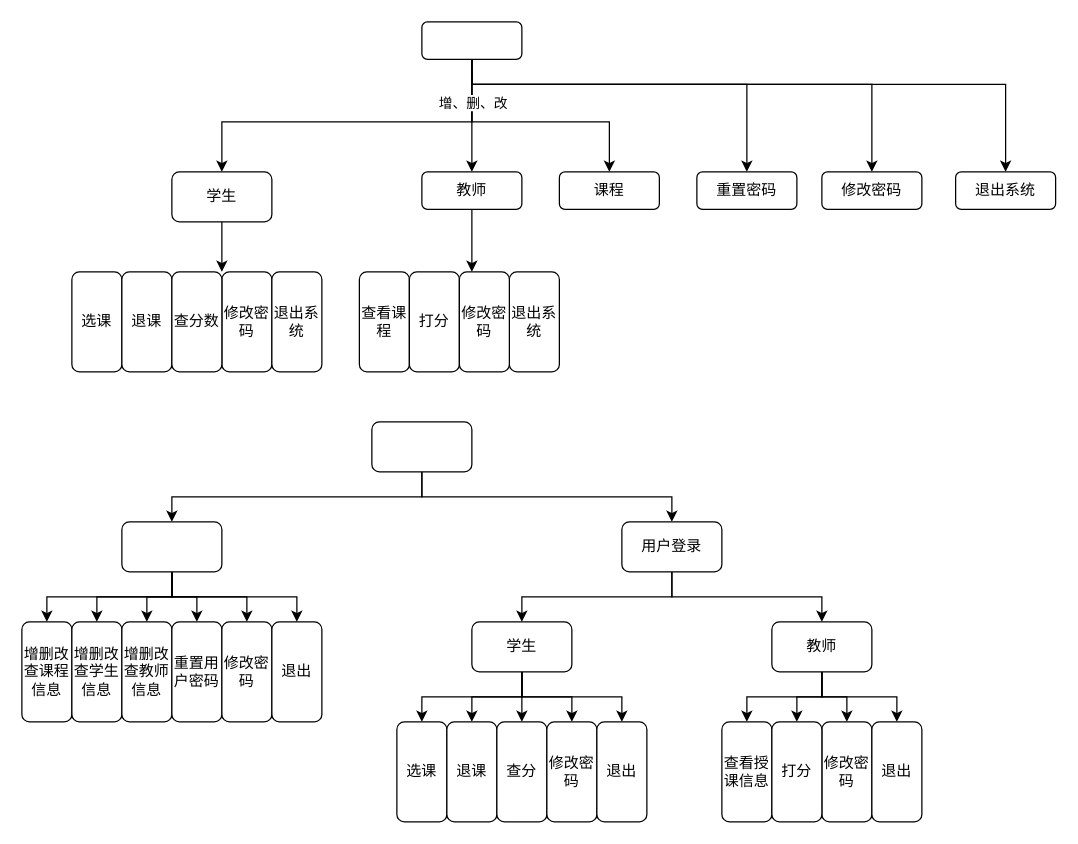
The diagram is 1078 pixels wide and 844 high, and some of its shapes have lost their labels. Here are the shapes that lost their labels. From the top down, the centre of each, then its label:
the point at 471,40: admin
the point at 421,446: 教务信息管理系统
the point at 171,546: 管理员登录
